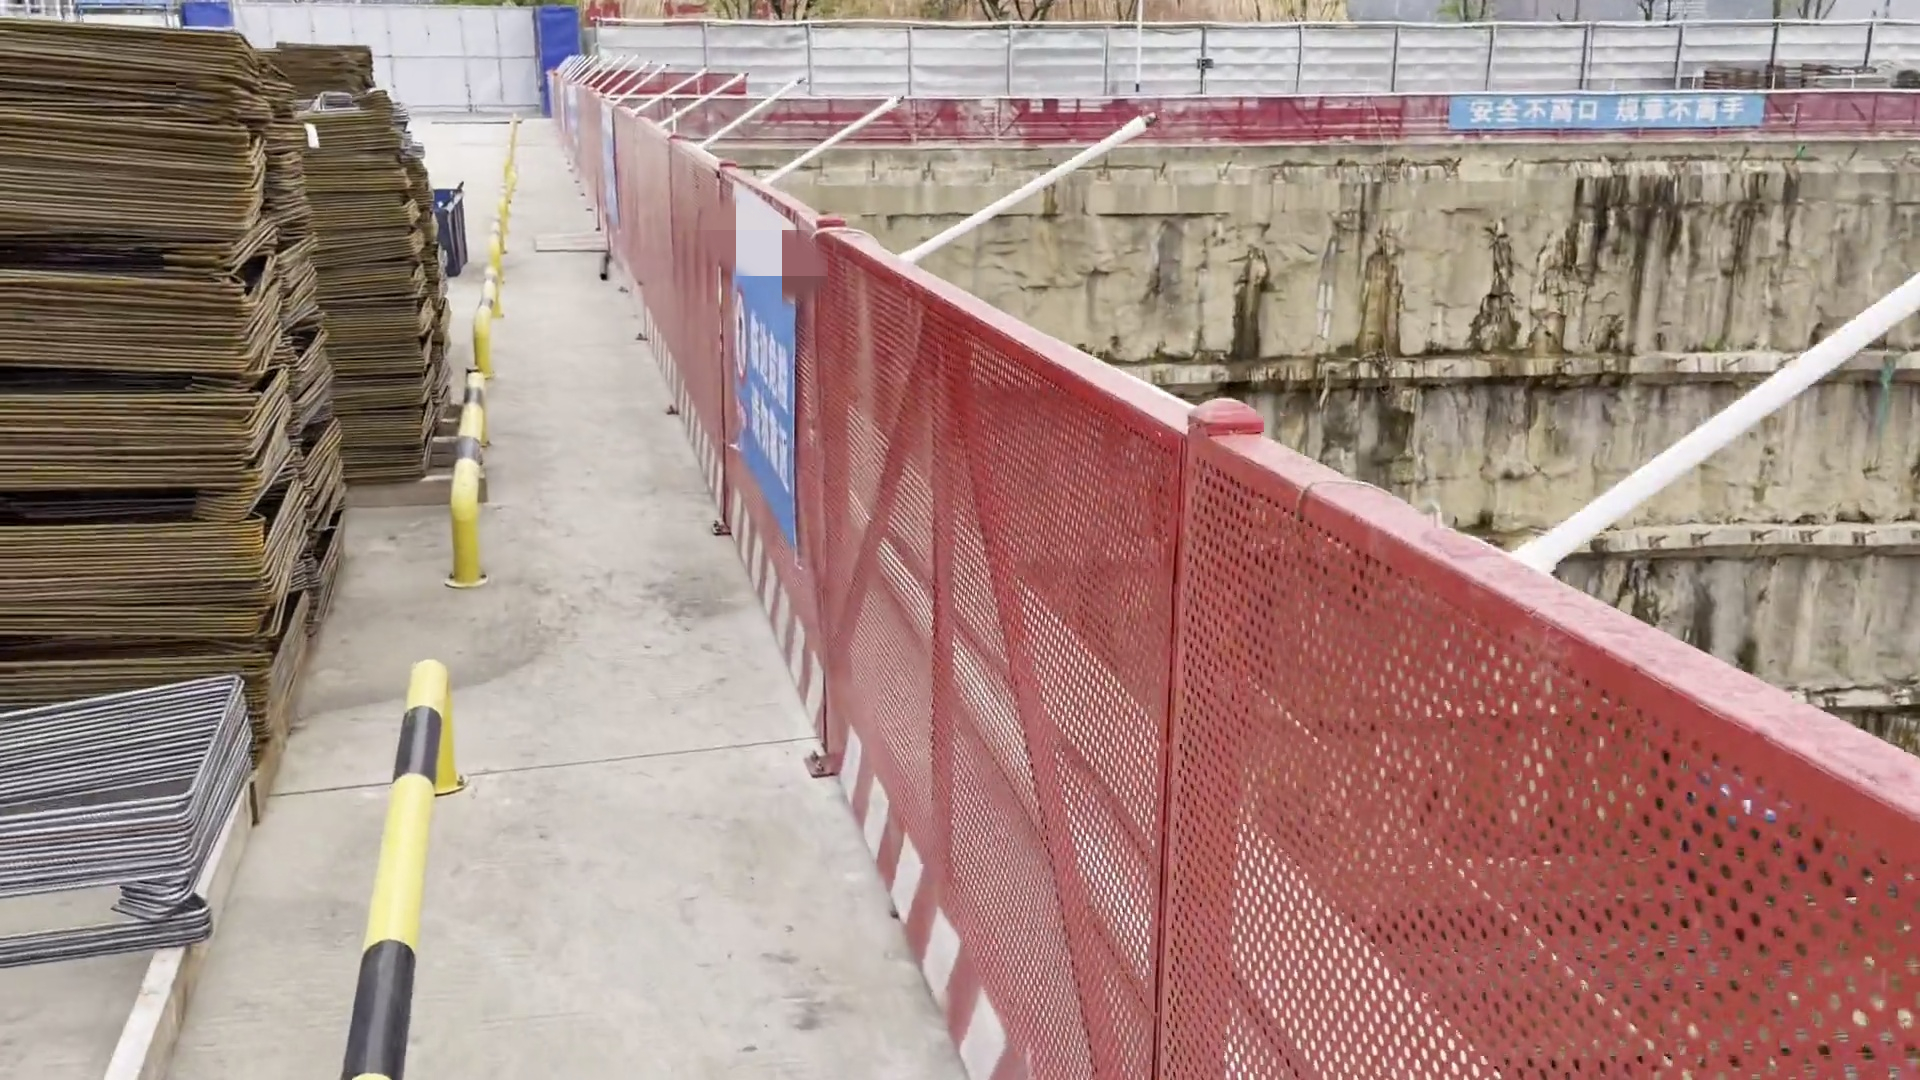fence: (841, 388, 1920, 1080), (728, 206, 1146, 760), (538, 74, 791, 558), (793, 92, 1920, 173)
hopper: (414, 169, 487, 301)
slogan: (704, 175, 818, 564), (1433, 88, 1775, 149), (582, 102, 632, 227)
